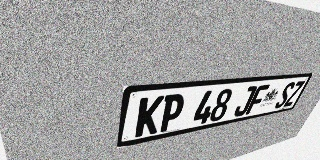4: (191, 90, 219, 126)
8: (208, 88, 235, 122)
F: (245, 84, 270, 115)
J: (232, 86, 258, 117)
K: (134, 95, 165, 138)
P: (157, 93, 187, 133)
S: (273, 82, 296, 109)
Z: (283, 81, 305, 107)
